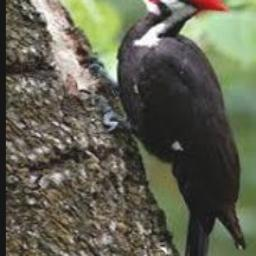Woodpecker: (89, 0, 245, 256)
